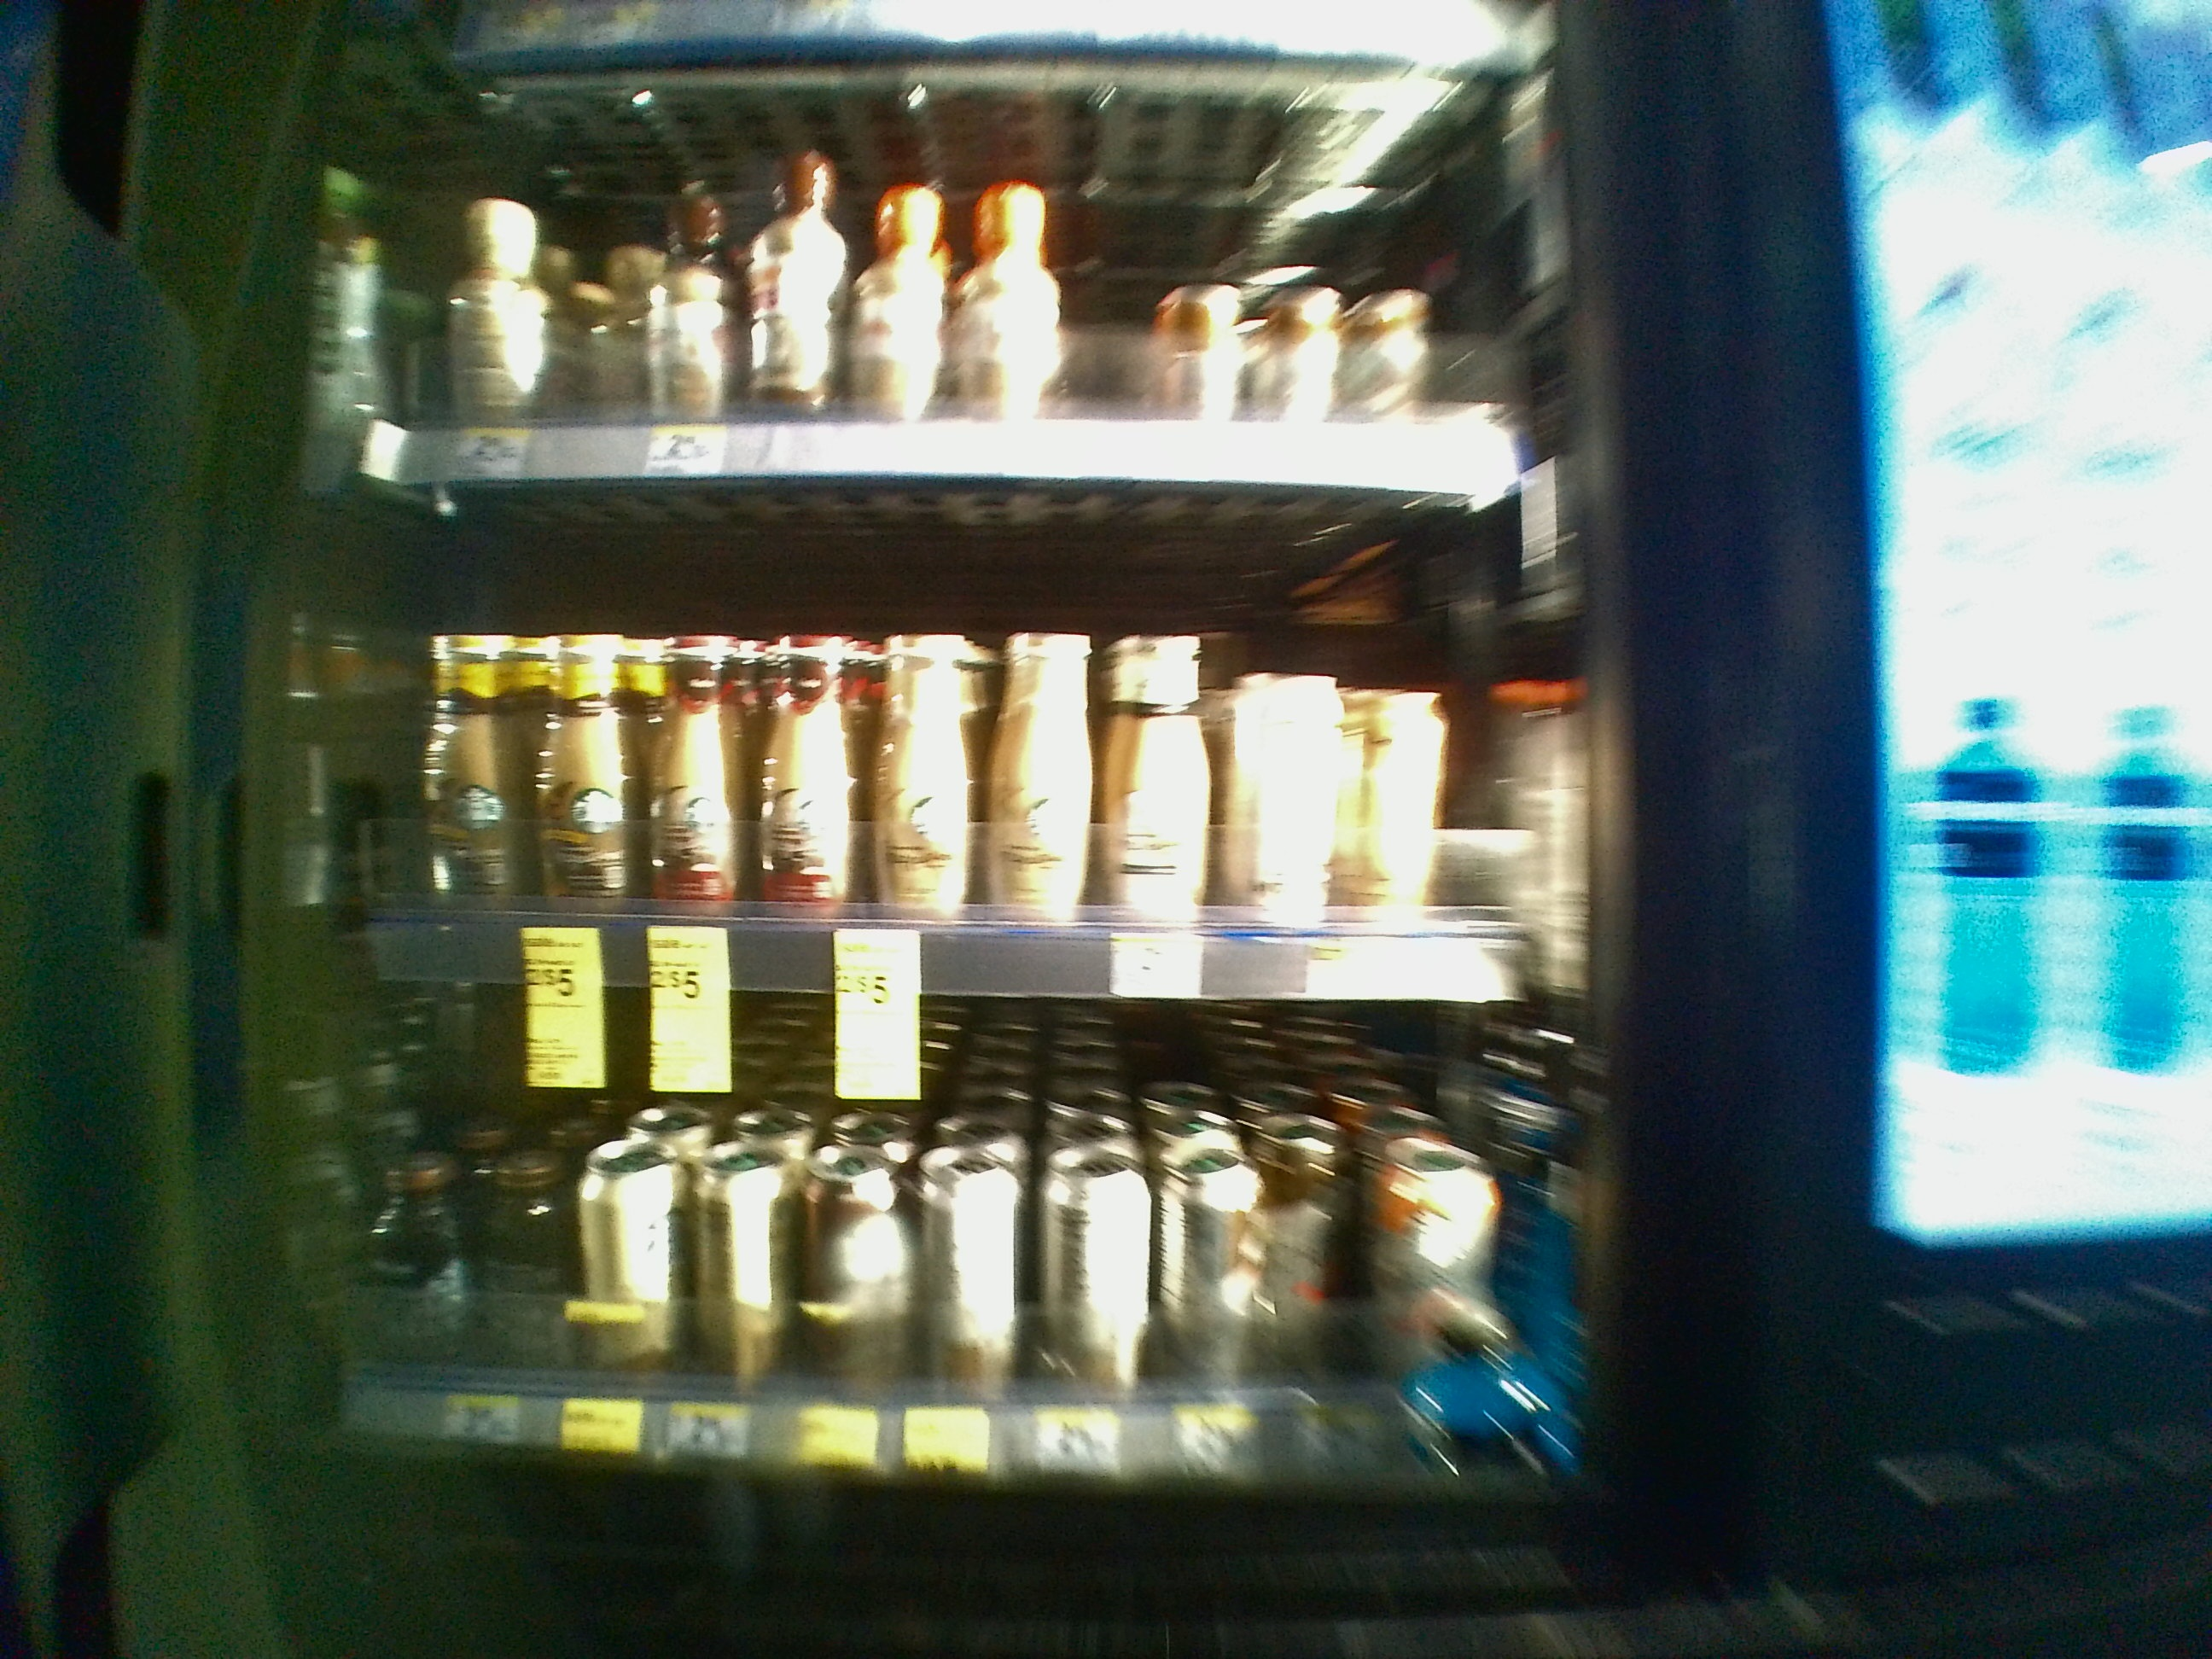shelf: (254, 483, 1615, 1004)
